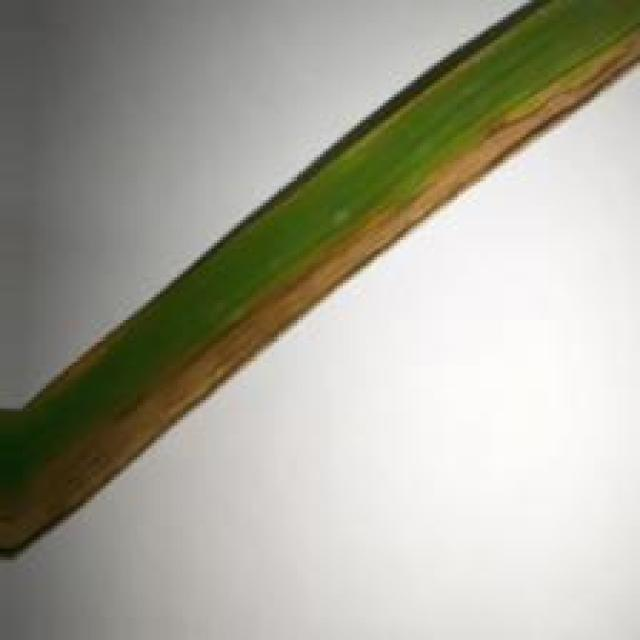Rice False Smut: (0, 31, 639, 558)
